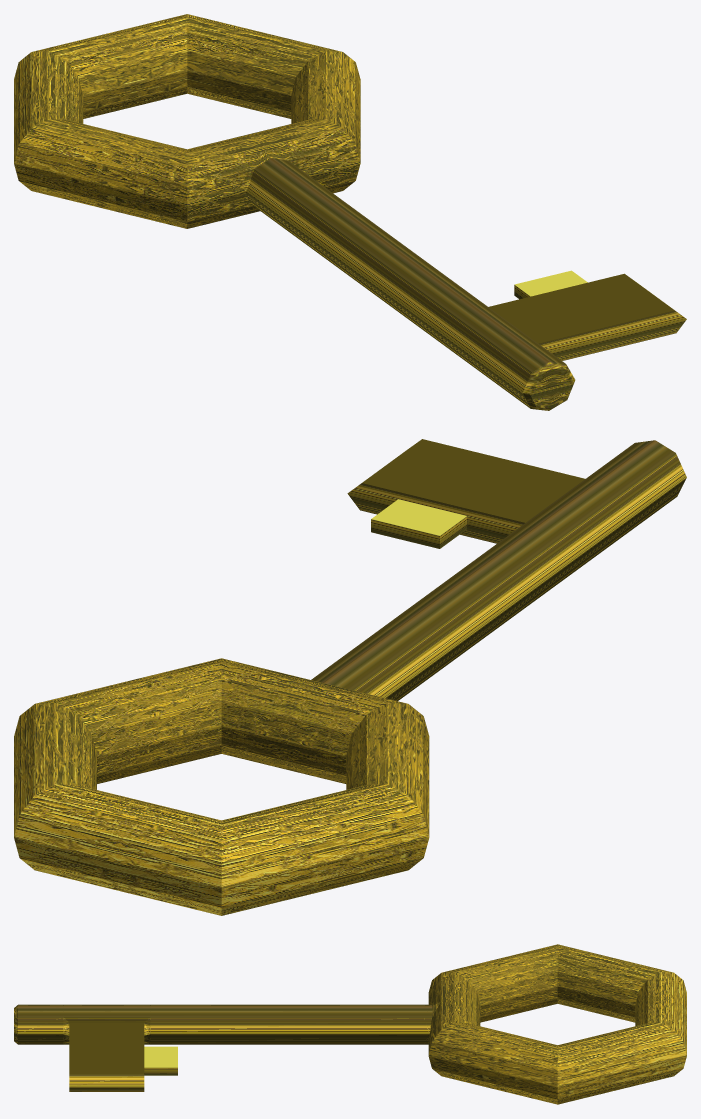
File: key.obj
The picture shows the model from 3 angles, top to bottom: view 1: azimuth 30°, elevation 25°; view 2: azimuth 150°, elevation 25°; view 3: azimuth 270°, elevation 25°; orthographic projection. The views are drawn at different scales.
Parts seen in each view (by area): view 1: Torus_Torus.001; view 2: Torus_Torus.001; view 3: Torus_Torus.001.
Boxes of the visible parts, x1,y1,x2,y2 form: Torus_Torus.001: (14, 14, 686, 410); Torus_Torus.001: (14, 439, 686, 915); Torus_Torus.001: (14, 944, 686, 1104).
Bounding box in the file's own units: 2.5 × 0.5 × 5.64.
